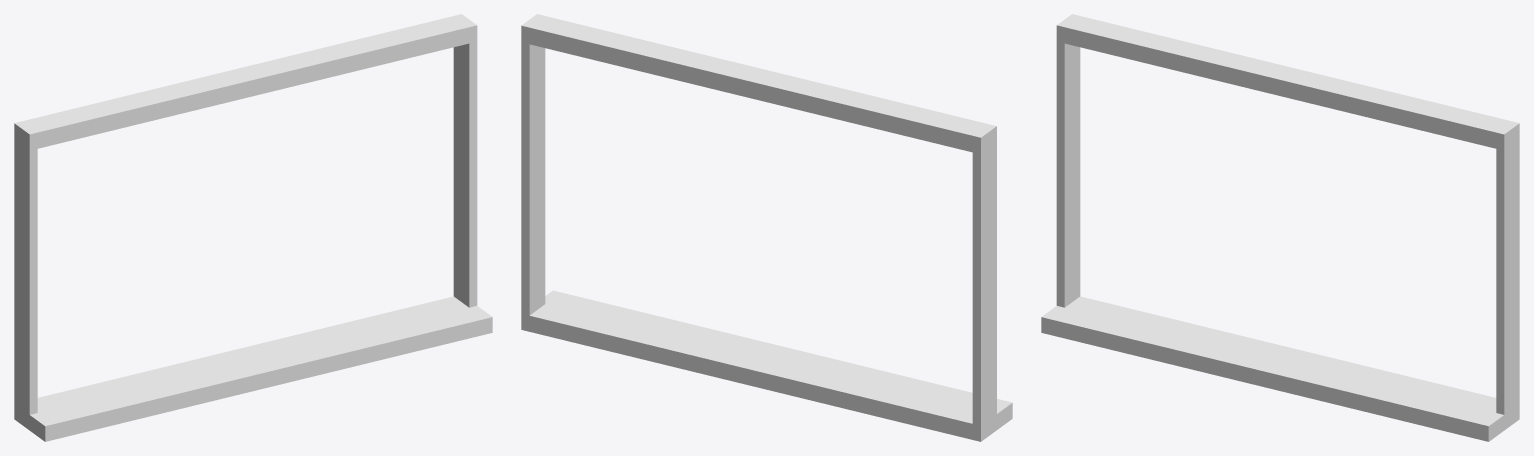
Rendered from WindowLarge01.fbx.
3 renders of one model, left to right at view 1: azimuth 30°, elevation 25°; view 2: azimuth 150°, elevation 25°; view 3: azimuth 330°, elevation 25°, orthographic. The views are drawn at different scales.
Parts seen in each view (by area): view 1: WindowLarge01; view 2: WindowLarge01; view 3: WindowLarge01.
Part boxes in pixels (box(x1,y1,x2,y2)): WindowLarge01: box(14, 14, 492, 441); WindowLarge01: box(521, 14, 1012, 441); WindowLarge01: box(1041, 14, 1519, 441).
Size of the model in its own units: 167 by 106 by 20.
